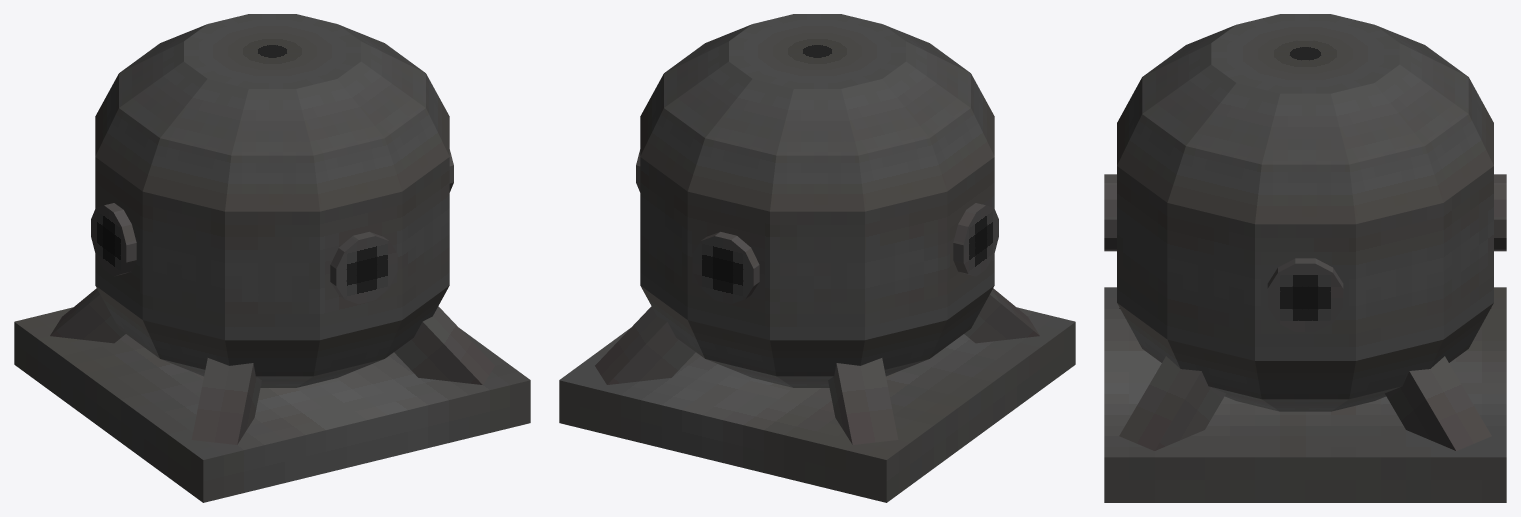
The model's file is chemical_plant_reaction_chamber.obj.
The picture shows the model from 3 angles, left to right: view 1: azimuth 30°, elevation 25°; view 2: azimuth 150°, elevation 25°; view 3: azimuth 270°, elevation 25°; orthographic projection. The views are drawn at different scales.
Visible parts, largest first — view 1: cylinder; view 2: cylinder; view 3: cylinder.
Part boxes in pixels (x1,y1,x2,y2): cylinder: (14,14,530,502); cylinder: (559,14,1075,502); cylinder: (1104,14,1506,502).
Bounding box in the file's own units: 1 × 0.9988 × 1.
